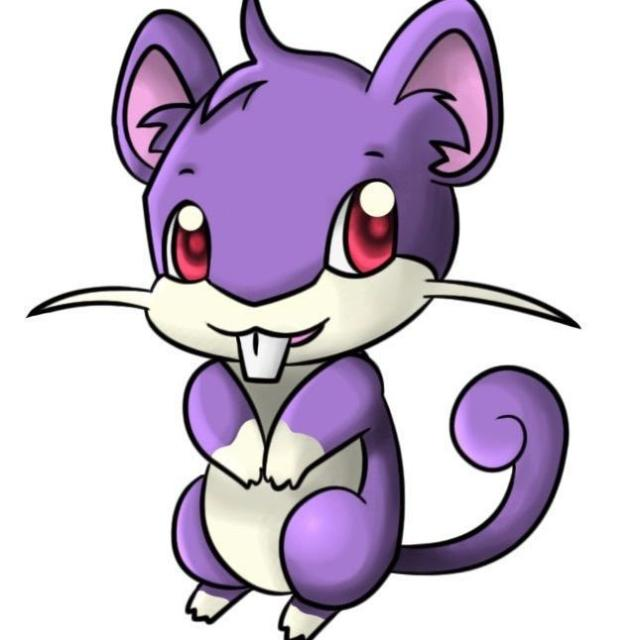Rattata: (119, 35, 506, 640)
